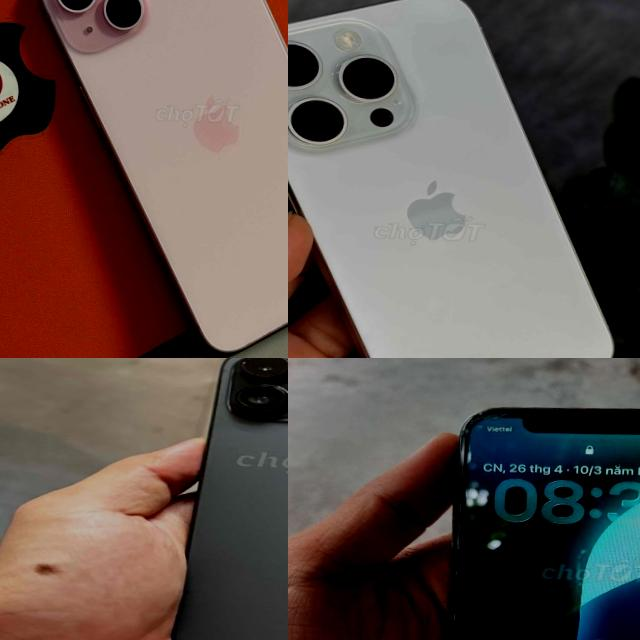scratch: (449, 402, 508, 438), (440, 526, 464, 576), (442, 604, 458, 625)
